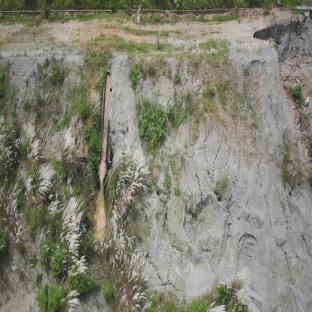slope_drain: (98, 70, 113, 169)
vegetation: (21, 123, 59, 211), (133, 93, 173, 157), (36, 214, 69, 277), (112, 154, 141, 218), (82, 122, 101, 174)
